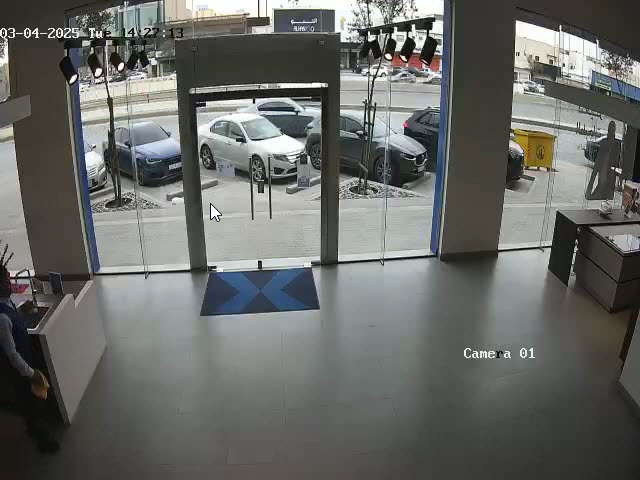employee: (0, 262, 49, 461)
